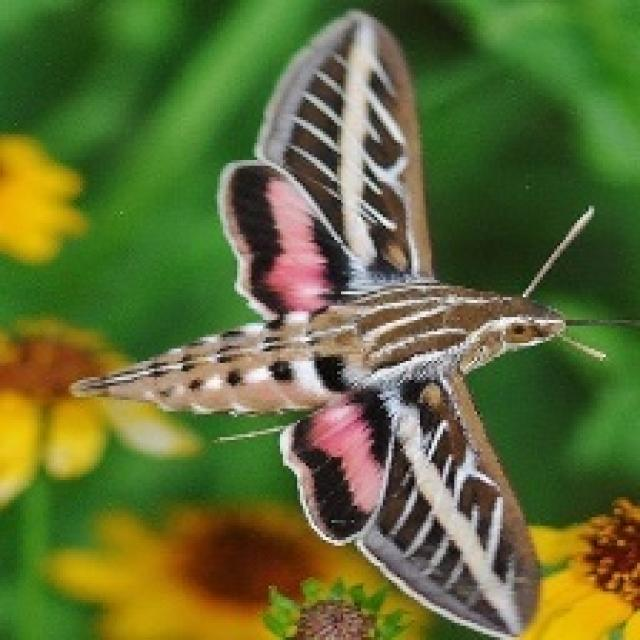butterfly: (66, 6, 637, 637)
